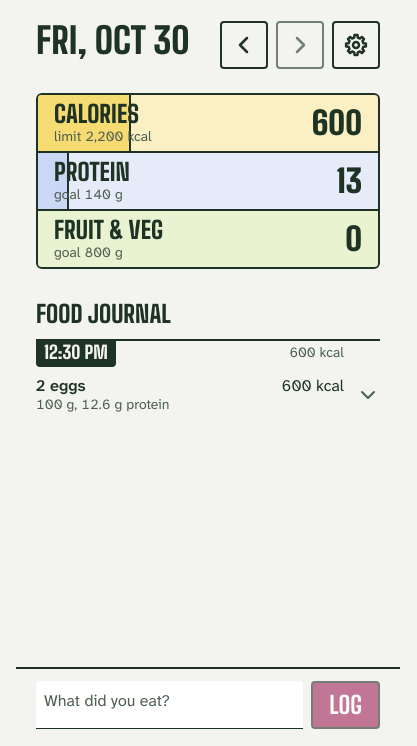
Scenario: a past day and the device clock › shows the current day when the clock is set back behind the picked day
Later steps or results of the test are not shown.
What coordinates should you click on to do the following:
click the button named "Previous day"
I would click on:
 (244, 45)
Its box is [220,21,268,69].
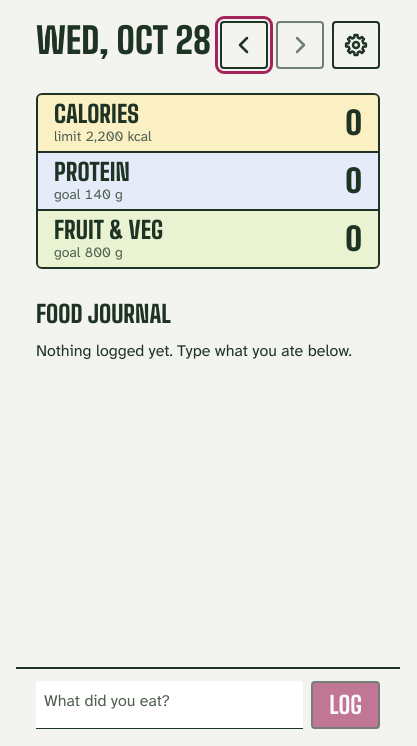
Check: the text "Wed, Oct 28" is shown, box [36,19,211,62]
